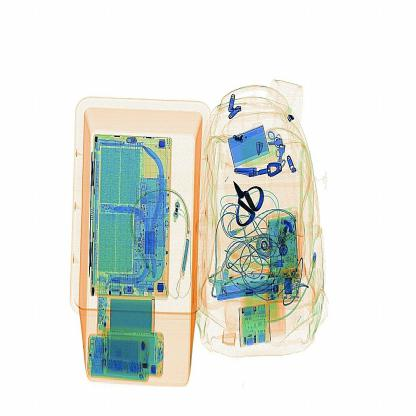gun: (224, 176, 264, 234)
